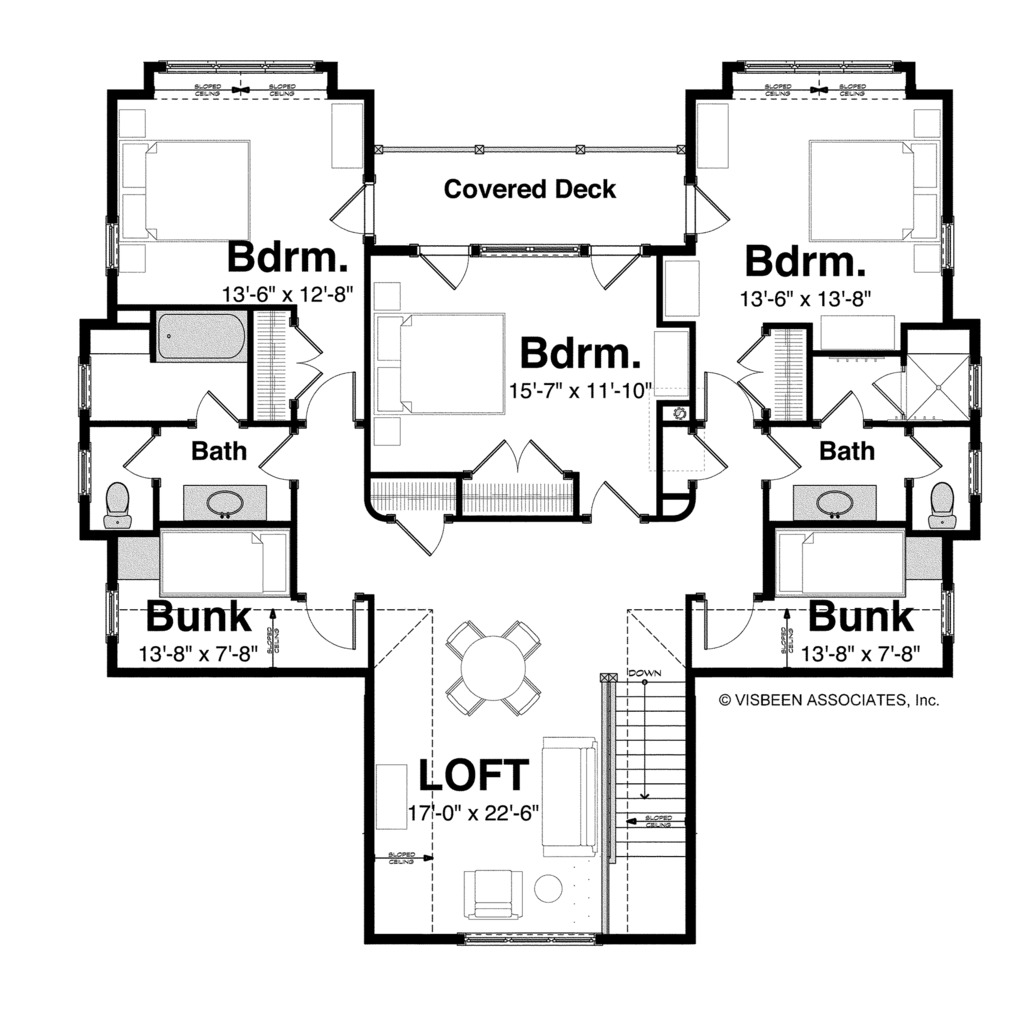bed: (110, 132, 259, 247), (807, 135, 952, 252), (371, 311, 510, 419), (147, 527, 294, 600)
door: (688, 584, 766, 655), (466, 433, 561, 484), (301, 587, 366, 657), (294, 368, 366, 427), (732, 328, 775, 422), (413, 238, 482, 295), (110, 424, 174, 484), (698, 365, 763, 424), (578, 239, 642, 293), (390, 508, 452, 563), (285, 311, 321, 403), (332, 178, 383, 241), (759, 425, 810, 484), (680, 425, 732, 479), (866, 363, 913, 419), (685, 181, 731, 236), (812, 384, 869, 428), (253, 428, 301, 479), (590, 479, 640, 522), (193, 387, 244, 427), (896, 438, 945, 479)
large_sink: (923, 468, 969, 536), (98, 473, 145, 536)
large_sofa: (537, 733, 605, 863)
round_table: (436, 612, 550, 722)
small_sink: (171, 476, 275, 524), (790, 479, 882, 525)
small_sofa: (459, 868, 520, 919)
stairs: (598, 665, 694, 939)
tub: (144, 305, 255, 368)
window: (969, 443, 996, 505), (936, 585, 964, 643), (958, 358, 988, 411), (69, 360, 102, 405), (102, 585, 125, 636), (77, 443, 96, 501)
